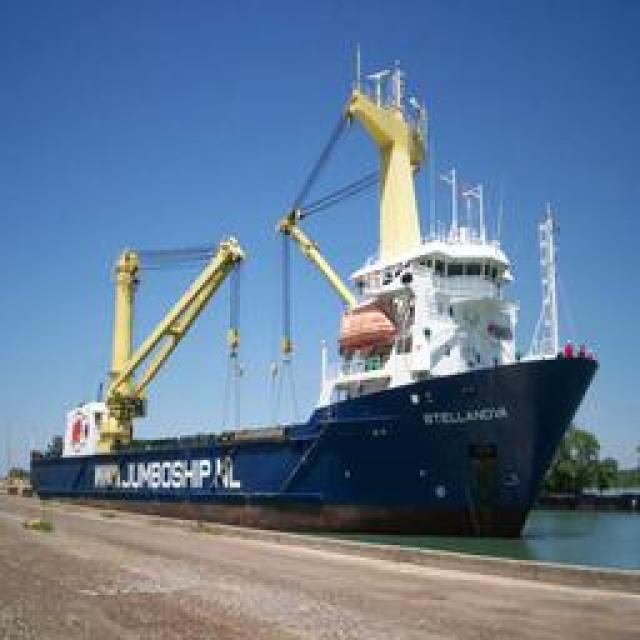ship2: (29, 46, 600, 539)
